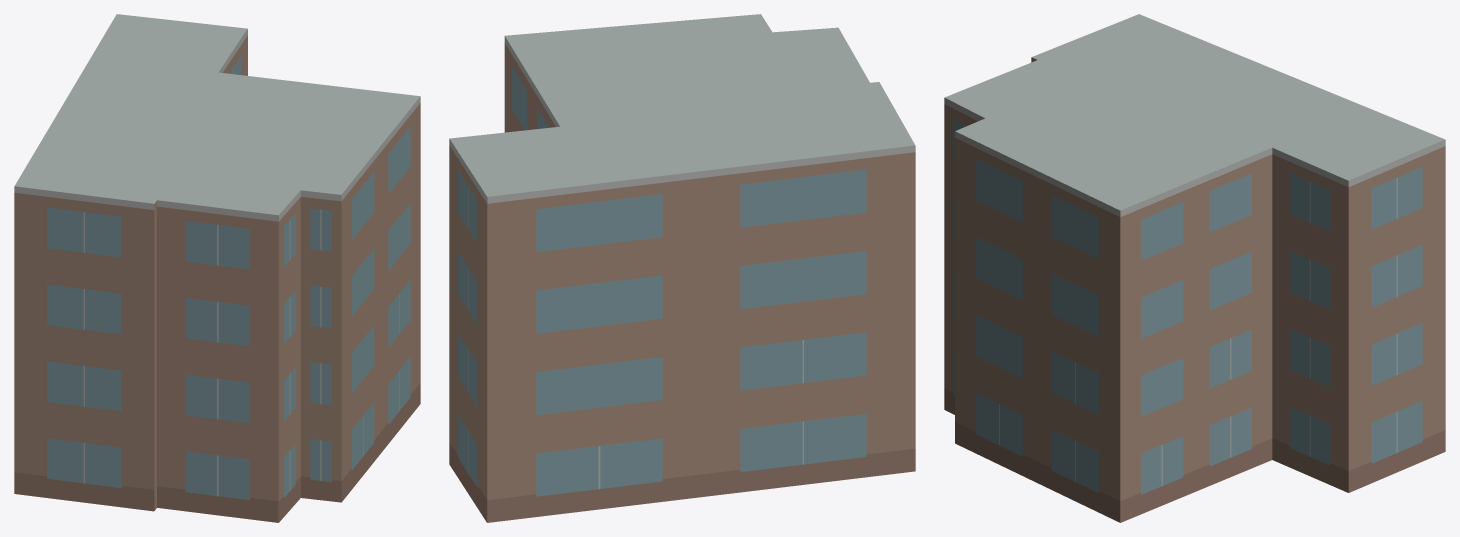
File: survey-upis-32992254.glb
3 views of the same model, side by side, from view 1: azimuth 30°, elevation 25°; view 2: azimuth 150°, elevation 25°; view 3: azimuth 270°, elevation 25° (orthographic). The views are drawn at different scales.
Visible parts, largest first — view 1: survey-upis-32992254.tmp; view 2: survey-upis-32992254.tmp; view 3: survey-upis-32992254.tmp.
Boxes of the visible parts, <box> form: survey-upis-32992254.tmp: <box>14,14,420,522</box>; survey-upis-32992254.tmp: <box>449,14,915,522</box>; survey-upis-32992254.tmp: <box>944,14,1445,522</box>.
Size of the model in its own units: 15.88 by 11.75 by 17.1.
